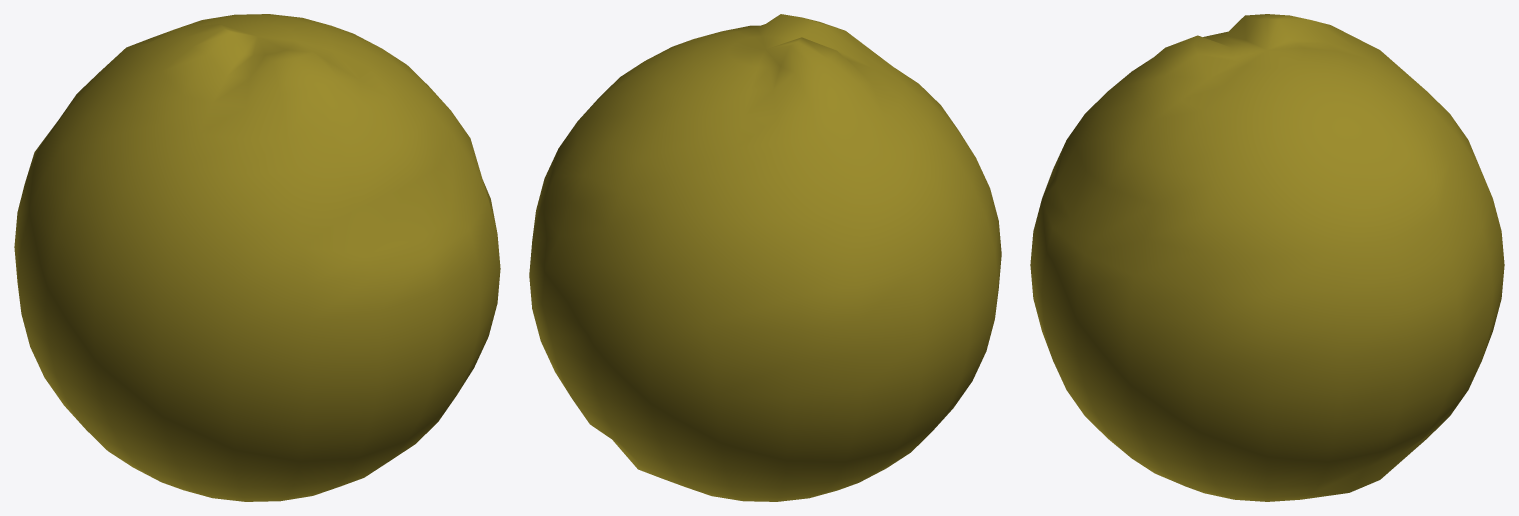
The model's file is Chickpea.fbx.
3 views of the same model, side by side, from view 1: azimuth 30°, elevation 25°; view 2: azimuth 150°, elevation 25°; view 3: azimuth 270°, elevation 25° (orthographic). The views are drawn at different scales.
Parts seen in each view (by area): view 1: pSphere1; view 2: pSphere1; view 3: pSphere1.
Boxes of the visible parts, bbox=[...] form: pSphere1: bbox=[14, 14, 500, 501]; pSphere1: bbox=[529, 14, 1001, 501]; pSphere1: bbox=[1030, 14, 1504, 501].
Bounding box in the file's own units: 2.01 × 2.07 × 2.
